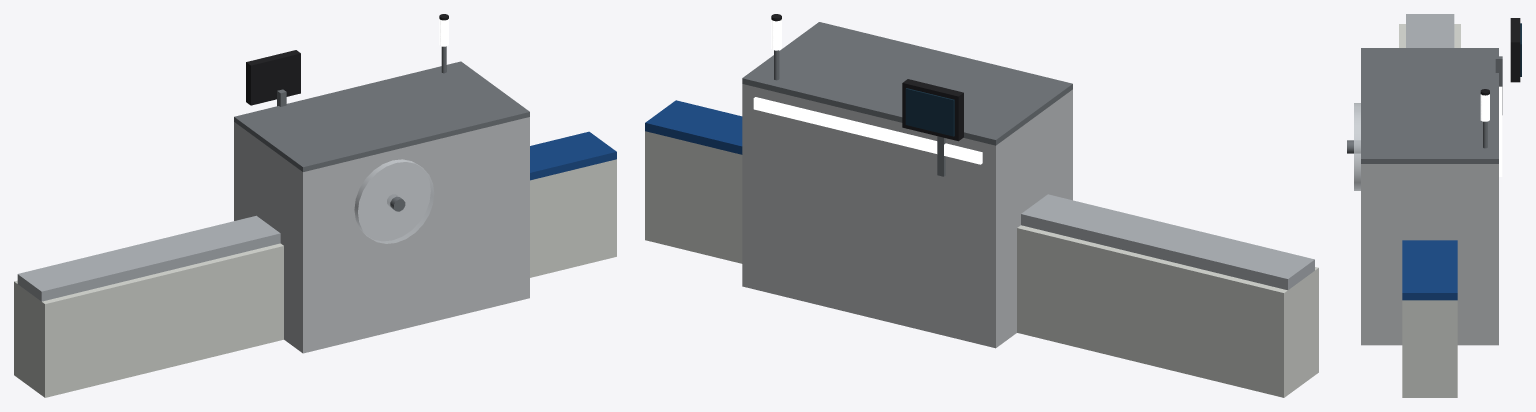
Rendered from wrapper.glb.
3 renders of one model, left to right at view 1: azimuth 30°, elevation 25°; view 2: azimuth 150°, elevation 25°; view 3: azimuth 270°, elevation 25°, orthographic. The views are drawn at different scales.
Visible parts, largest first — view 1: body; view 2: body, status_band; view 3: body, status_band, beacon.
Part boxes in pixels (bbox=[...]): body: bbox=[14, 14, 616, 397]; body: bbox=[645, 14, 1318, 397]; status_band: bbox=[753, 97, 982, 164]; body: bbox=[1347, 14, 1521, 397]; status_band: bbox=[1499, 86, 1502, 176]; beacon: bbox=[1480, 94, 1489, 121].
Size of the model in its own units: 4.8 by 1.94 by 1.27.
